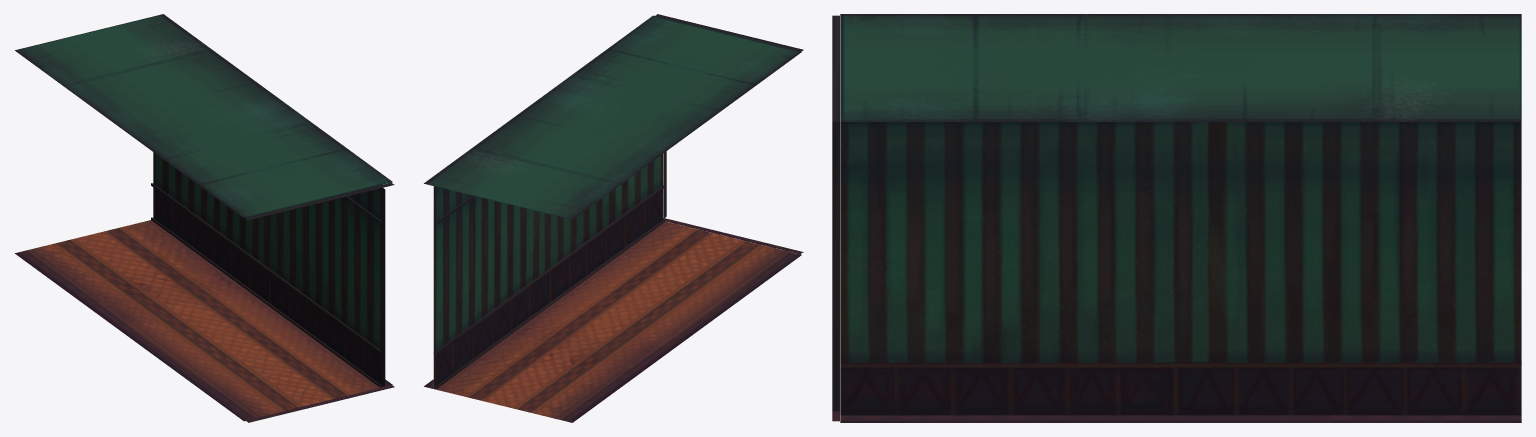
File: wall_04_rt.obj
The picture shows the model from 3 angles, left to right: view 1: azimuth 30°, elevation 25°; view 2: azimuth 150°, elevation 25°; view 3: azimuth 270°, elevation 25°; orthographic projection. The views are drawn at different scales.
Parts seen in each view (by area): view 1: wall_04_rt; view 2: wall_04_rt; view 3: wall_04_rt.
Boxes of the visible parts, bbox=[...] form: wall_04_rt: bbox=[15, 14, 394, 422]; wall_04_rt: bbox=[424, 14, 803, 422]; wall_04_rt: bbox=[832, 14, 1521, 422].
Bounding box in the file's own units: 183 × 238 × 493.
